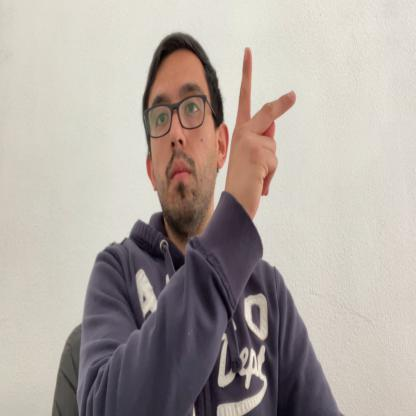P: (227, 46, 296, 216)
